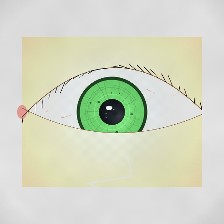foreign_body_visible: (80, 128, 125, 164)
